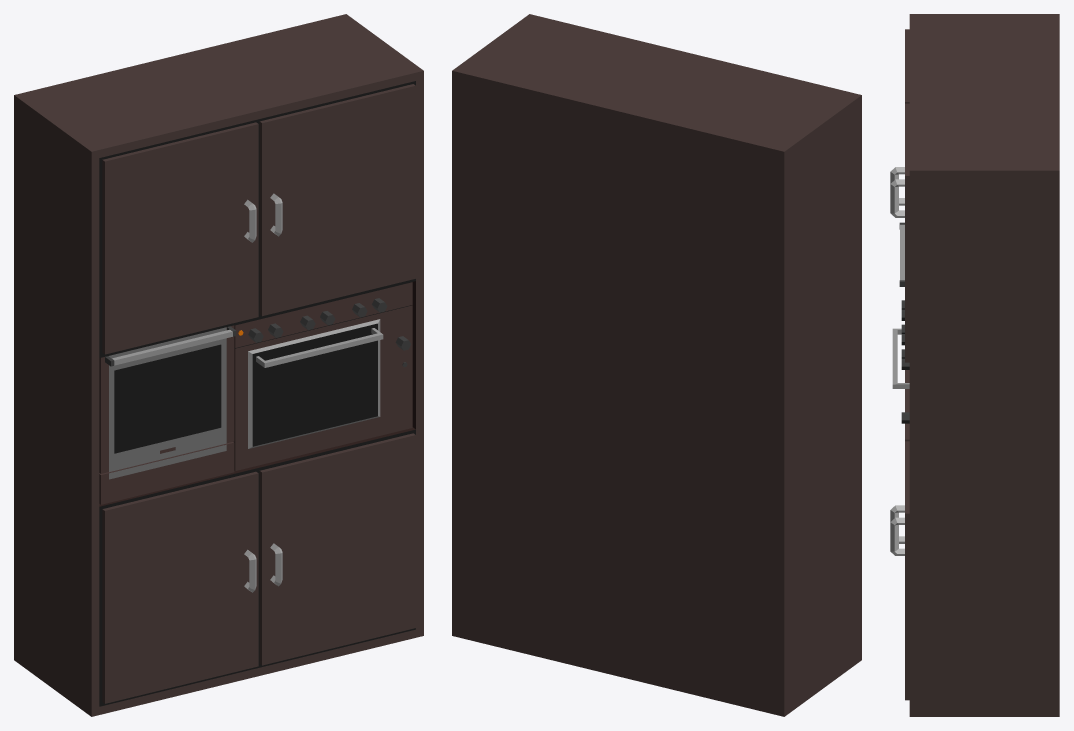
The model's file is kitchen_item_014.glb.
3 renders of one model, left to right at view 1: azimuth 30°, elevation 25°; view 2: azimuth 150°, elevation 25°; view 3: azimuth 270°, elevation 25°, orthographic. The views are drawn at different scales.
Visible parts, largest first — view 1: kitchen_item_014; view 2: kitchen_item_014; view 3: kitchen_item_014.
Boxes of the visible parts, x1,y1,x2,y2 form: kitchen_item_014: (14, 14, 423, 716); kitchen_item_014: (452, 14, 861, 716); kitchen_item_014: (890, 14, 1059, 716).
Size of the model in its own units: 1.31 by 2.13 by 0.597.
Materials: 1 (1 with a texture image).
